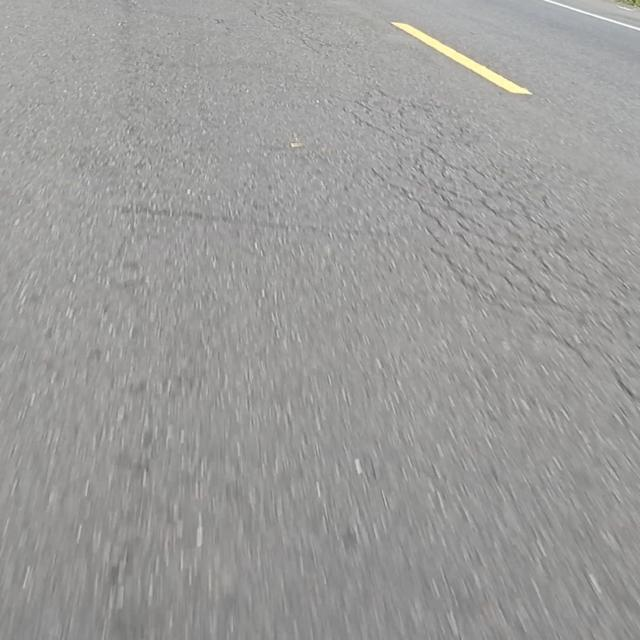Retak Buaya: (352, 86, 640, 407)
